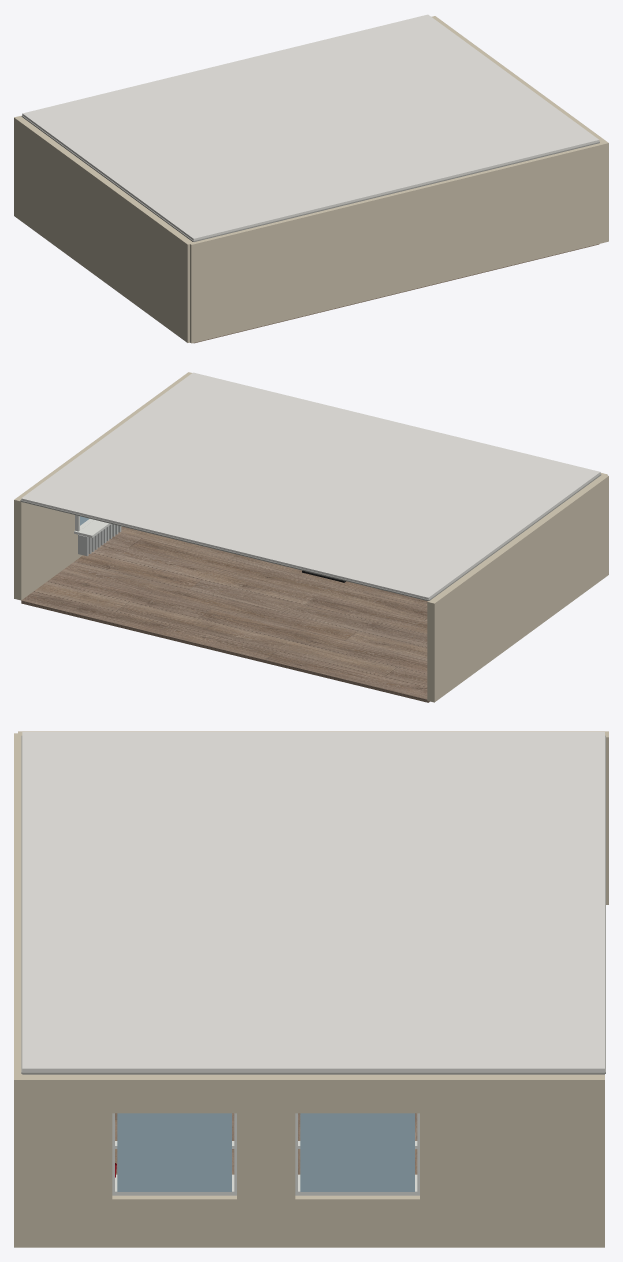
Rendered from meshy-meeting-candidate.fbx.
The picture shows the model from 3 angles, top to bottom: view 1: azimuth 30°, elevation 25°; view 2: azimuth 150°, elevation 25°; view 3: azimuth 270°, elevation 25°; orthographic projection. The views are drawn at different scales.
Parts seen in each view (by area): view 1: Shell Ceiling panels ceiling, Shell Warm plaster rear, Shell Right wall right, Shell Warm plaster left, Shell Warm plaster ceiling, Shell Ceiling grid ceiling, FightFloor, Shell Ceiling panels right; view 2: Shell Ceiling panels ceiling, FightFloor, Shell Right wall right, Shell Warm plaster left, Shell Ceiling grid ceiling, Shell Radiator left, Shell White frame left, Shell Ceiling panels right; view 3: Shell Ceiling panels ceiling, Shell Warm plaster left, Shell Window daylight left, Shell Warm plaster ceiling, Shell Ceiling panels left, Shell White frame left, Shell Ceiling grid left, Shell Right wall right, Shell Ceiling grid ceiling.
Part boxes in pixels (<box>): Shell Ceiling panels ceiling: <box>22,14,599,240</box>; Shell Warm plaster rear: <box>191,144,606,343</box>; Shell Right wall right: <box>14,116,194,342</box>; Shell Warm plaster left: <box>431,16,608,243</box>; Shell Warm plaster ceiling: <box>190,143,601,244</box>; Shell Ceiling grid ceiling: <box>194,142,599,241</box>; FightFloor: <box>193,244,599,343</box>; Shell Ceiling panels right: <box>22,113,193,240</box>; Shell Ceiling panels ceiling: <box>21,372,599,599</box>; FightFloor: <box>21,526,429,702</box>; Shell Right wall right: <box>427,475,608,702</box>; Shell Warm plaster left: <box>14,372,191,600</box>; Shell Ceiling grid ceiling: <box>21,500,428,600</box>; Shell Radiator left: <box>78,524,121,556</box>; Shell White frame left: <box>74,515,110,537</box>; Shell Ceiling panels right: <box>428,472,600,599</box>; Shell Ceiling panels ceiling: <box>22,732,604,1068</box>; Shell Warm plaster left: <box>14,1074,604,1247</box>; Shell Window daylight left: <box>117,1113,414,1191</box>; Shell Warm plaster ceiling: <box>14,733,21,1073</box>; Shell Ceiling panels left: <box>22,1068,604,1071</box>; Shell White frame left: <box>112,1113,419,1195</box>; Shell Ceiling grid left: <box>21,1072,605,1074</box>; Shell Right wall right: <box>18,731,608,904</box>; Shell Ceiling grid ceiling: <box>21,735,605,1072</box>.
Size of the model in its own units: 1338 by 319 by 965.
Materials: 20 (9 with a texture image).
